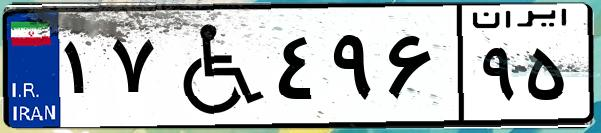1: (57, 26, 110, 100)
4: (270, 28, 330, 110)
5: (525, 38, 570, 115)
6: (385, 28, 445, 110)
7: (110, 28, 158, 98)
9: (330, 28, 385, 110), (475, 38, 525, 113)
ژ (معلولین و جانبازان): (158, 12, 270, 120)
